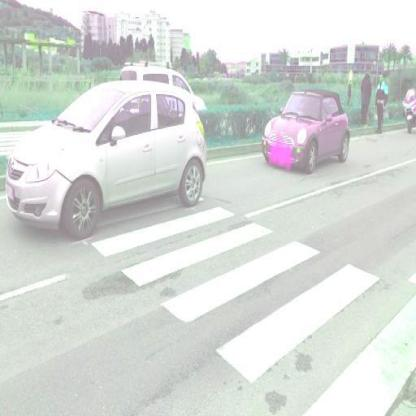crosswalk: (152, 238, 399, 403)
